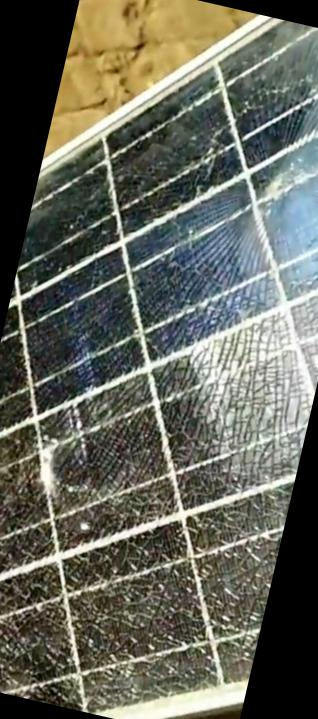Crack: (110, 61, 317, 506), (0, 454, 285, 718)
